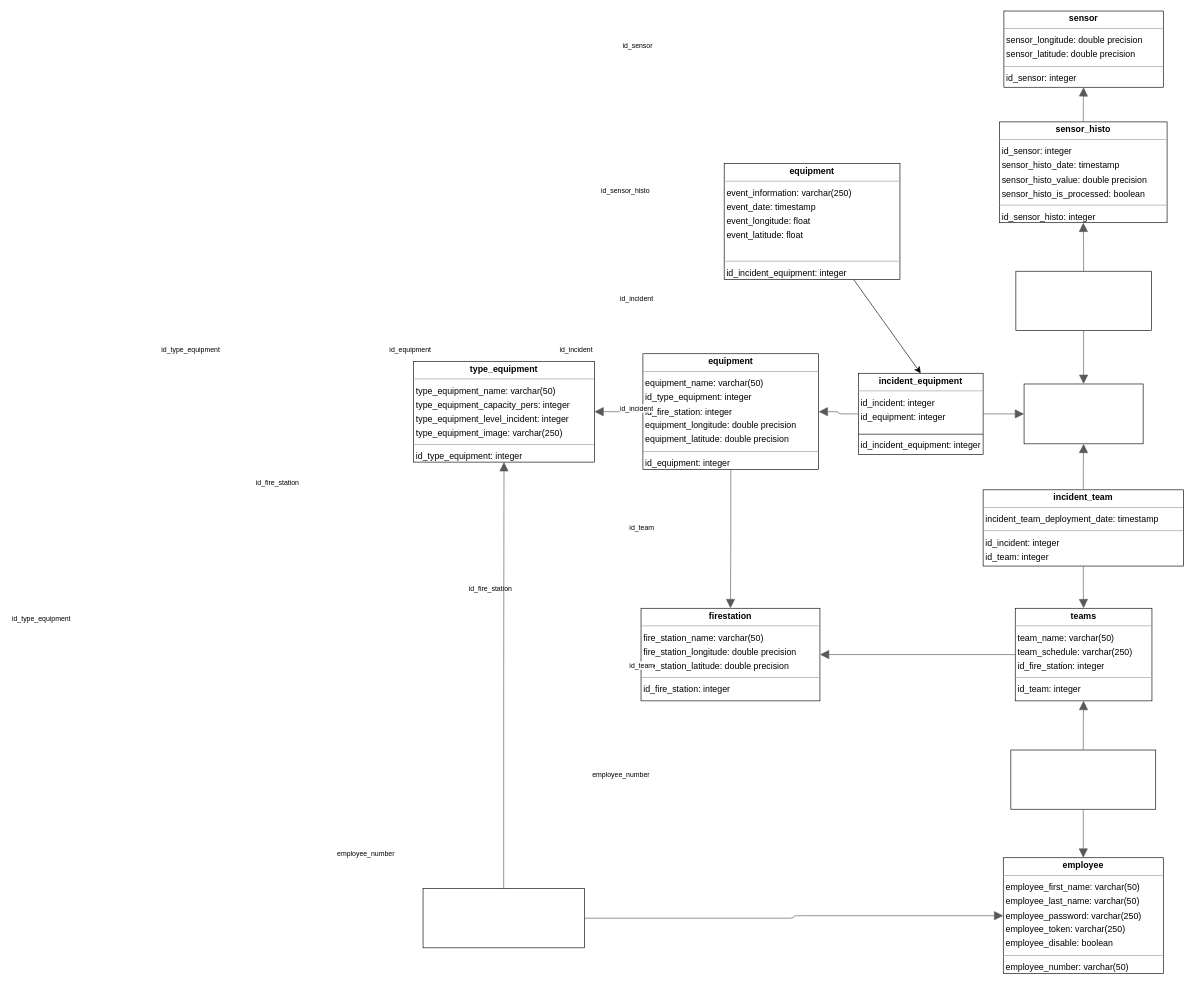
Image size: 1194x985. Some labels were removed from this diagram. Here are the shapes that lost their labels. From the top down, the centre of each, then its label:
At (1083,300): "incident_sensor_histo id_incident: integer id_sensor_histo: integer".
At (1083,413): "incident incident_status: boolean id_incident: integer".
At (1083,779): "team_employee id_team: integer employee_number: varchar(50)".
At (503,918): "type_equipment_employee id_type_equipment: integer employee_number: varchar(50)".
